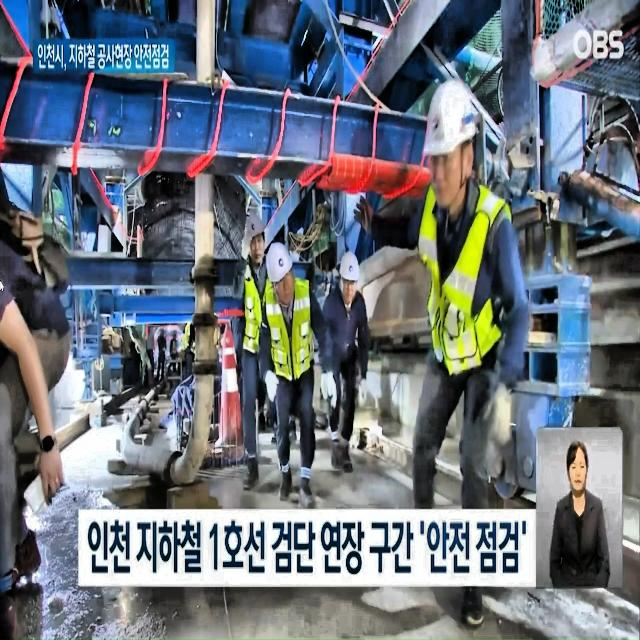safety_helmet: (411, 68, 487, 142), (260, 232, 296, 290), (328, 248, 368, 298), (238, 210, 274, 256)
safety_jacket: (418, 193, 510, 373), (263, 289, 317, 378), (230, 262, 271, 372)
